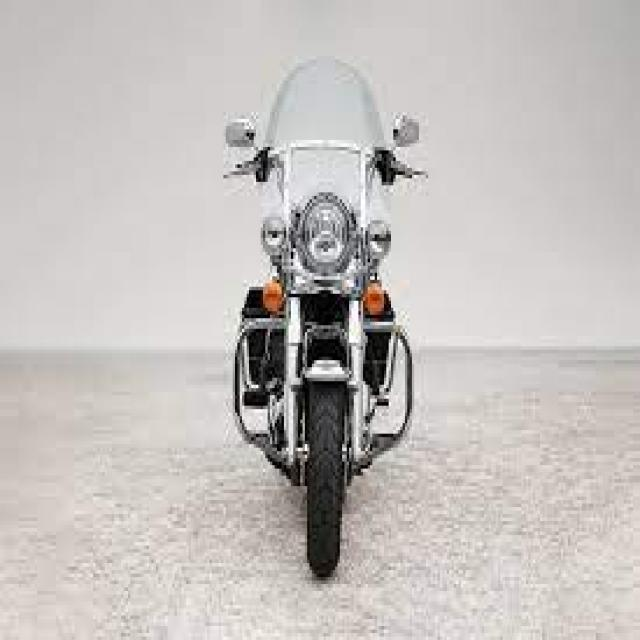Bike: (218, 48, 422, 580)
